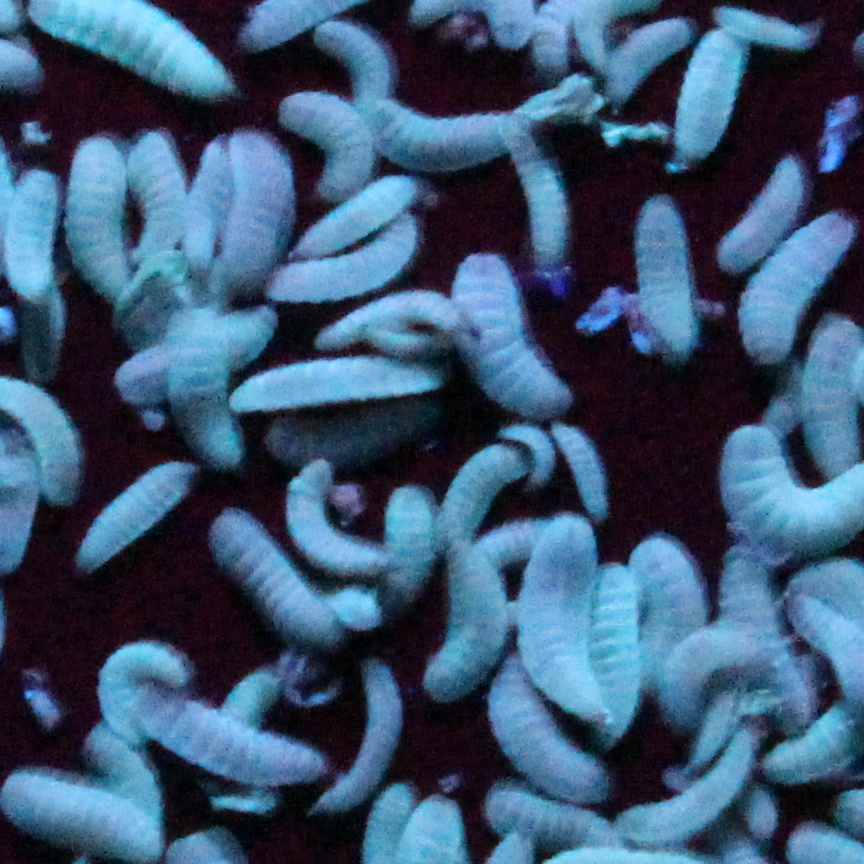larve: (120, 666, 332, 796), (522, 519, 619, 731), (737, 209, 859, 376), (489, 644, 614, 801), (114, 296, 282, 410), (459, 254, 574, 416), (612, 736, 769, 851), (316, 650, 412, 826), (214, 508, 340, 640), (624, 189, 709, 384), (80, 456, 202, 570), (429, 539, 512, 704), (172, 304, 250, 474), (642, 614, 764, 721), (634, 534, 709, 704), (286, 460, 400, 570), (369, 96, 517, 179), (62, 138, 134, 308), (482, 784, 634, 861), (664, 26, 742, 174), (230, 136, 300, 296), (228, 356, 446, 406), (727, 151, 812, 279), (172, 150, 240, 304), (577, 571, 654, 704), (282, 179, 417, 254), (274, 224, 422, 291), (327, 286, 479, 351), (100, 640, 192, 746), (544, 406, 624, 519), (287, 96, 379, 194), (130, 138, 194, 268), (717, 556, 784, 671), (382, 490, 442, 610), (317, 21, 399, 104), (622, 14, 684, 121), (444, 451, 524, 529), (218, 664, 278, 748), (504, 421, 557, 496)
